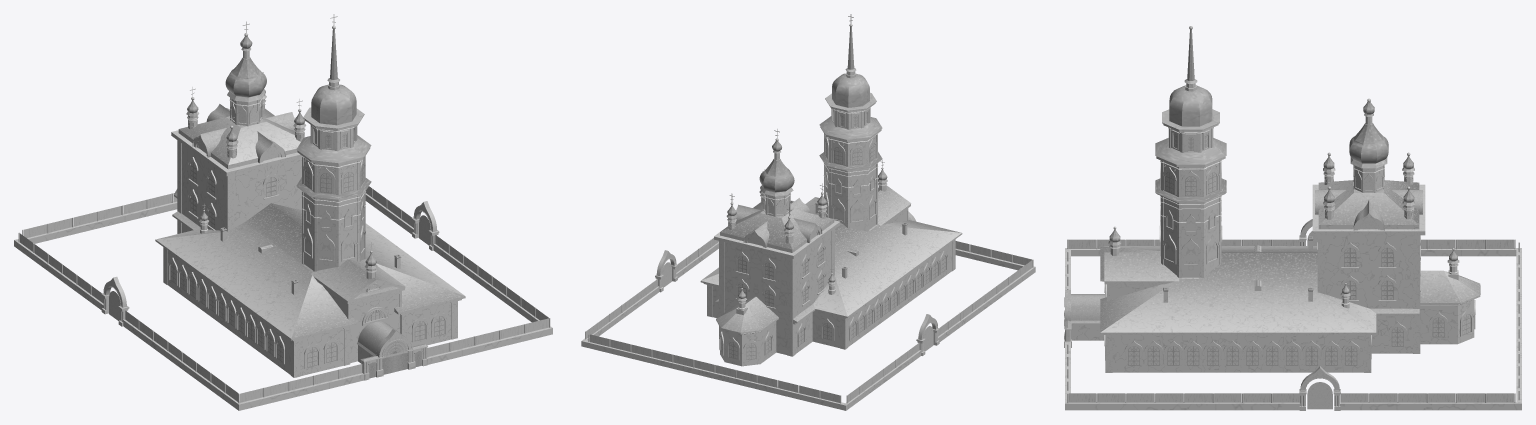
File: SM_Cathedral.fbx
3 views of the same model, side by side, from view 1: azimuth 30°, elevation 25°; view 2: azimuth 150°, elevation 25°; view 3: azimuth 270°, elevation 25° (orthographic). The views are drawn at different scales.
Parts seen in each view (by area): view 1: Cube.083_LOD0; view 2: Cube.083_LOD0; view 3: Cube.083_LOD0.
Part boxes in pixels (x1=…): Cube.083_LOD0: x1=14, y1=14, x2=552, y2=410; Cube.083_LOD0: x1=581, y1=14, x2=1035, y2=410; Cube.083_LOD0: x1=1064, y1=26, x2=1521, y2=410.
Size of what is drawn, in the model's own units: 639 by 603 by 786.
